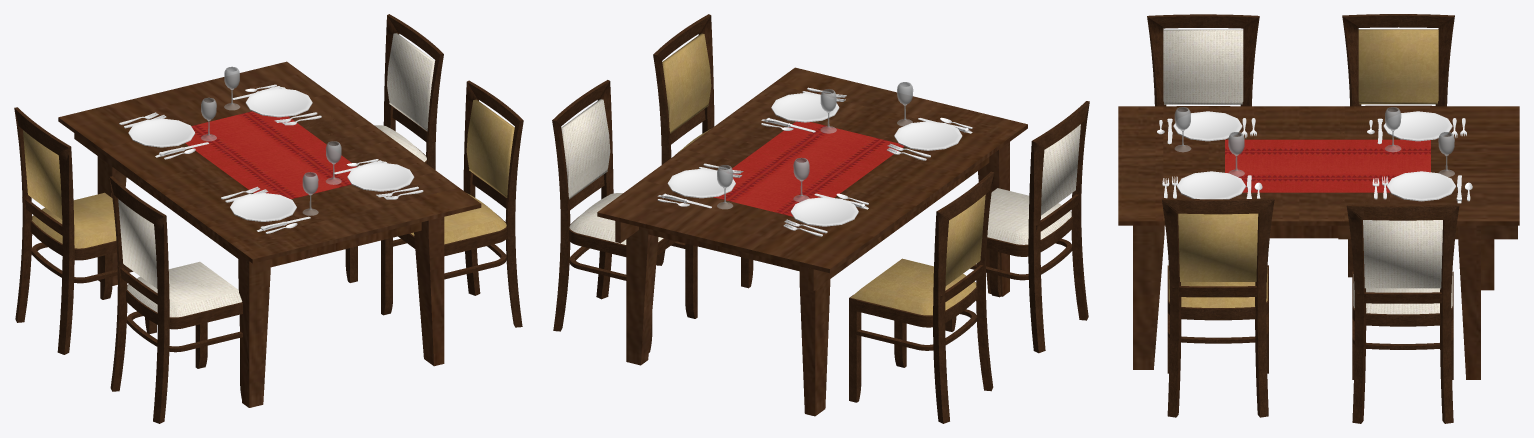
The picture shows the model from 3 angles, left to right: view 1: azimuth 30°, elevation 25°; view 2: azimuth 150°, elevation 25°; view 3: azimuth 270°, elevation 25°; orthographic projection. The views are drawn at different scales.
Visible parts, largest first — view 1: table; view 2: table; view 3: table.
Boxes of the visible parts, x1,y1,x2,y2 form: table: (14, 14, 523, 423); table: (552, 14, 1089, 423); table: (1118, 14, 1519, 423).
Size of the model in its own units: 1.91 by 1 by 1.66.
10 materials, 7 textured.
